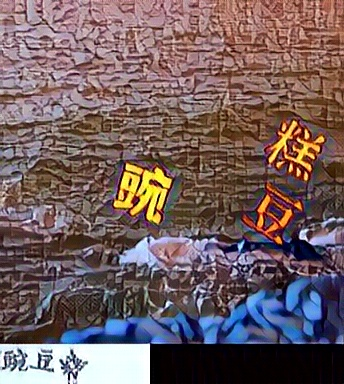B6B9: (240, 182, 302, 246)
B8E2: (263, 117, 325, 181)
CDE3: (112, 158, 174, 222)
